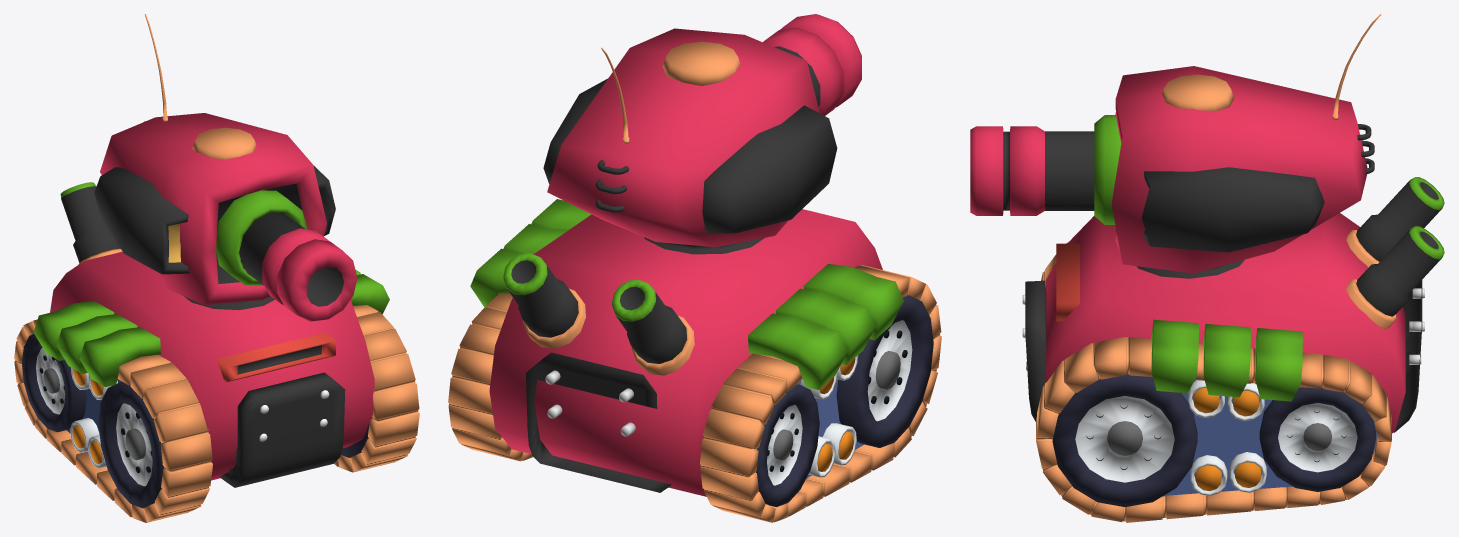
File: Tank13.fbx
3 renders of one model, left to right at view 1: azimuth 30°, elevation 25°; view 2: azimuth 150°, elevation 25°; view 3: azimuth 270°, elevation 25°, orthographic. The views are drawn at different scales.
Parts seen in each view (by area): view 1: Tank13, Tank13.Turret, Tank13.Wheel2, Tank13.Wheel4; view 2: Tank13, Tank13.Turret, Tank13.Wheel2, Tank13.Wheel4; view 3: Tank13, Tank13.Turret, Tank13.Wheel1, Tank13.Wheel3.
Part boxes in pixels (x1=…): Tank13: x1=14, y1=182, x2=419, y2=522; Tank13.Turret: x1=94, y1=14, x2=357, y2=321; Tank13.Wheel2: x1=98, y1=382, x2=164, y2=508; Tank13.Wheel4: x1=22, y1=334, x2=86, y2=432; Tank13: x1=448, y1=199, x2=941, y2=522; Tank13.Turret: x1=543, y1=14, x2=861, y2=254; Tank13.Wheel2: x1=836, y1=295, x2=933, y2=447; Tank13.Wheel4: x1=756, y1=384, x2=819, y2=506; Tank13: x1=1022, y1=177, x2=1444, y2=522; Tank13.Turret: x1=970, y1=14, x2=1381, y2=278; Tank13.Wheel1: x1=1052, y1=374, x2=1197, y2=507; Tank13.Wheel3: x1=1259, y1=387, x2=1375, y2=491.
Bounding box in the file's own units: 1.6 × 2.06 × 2.
